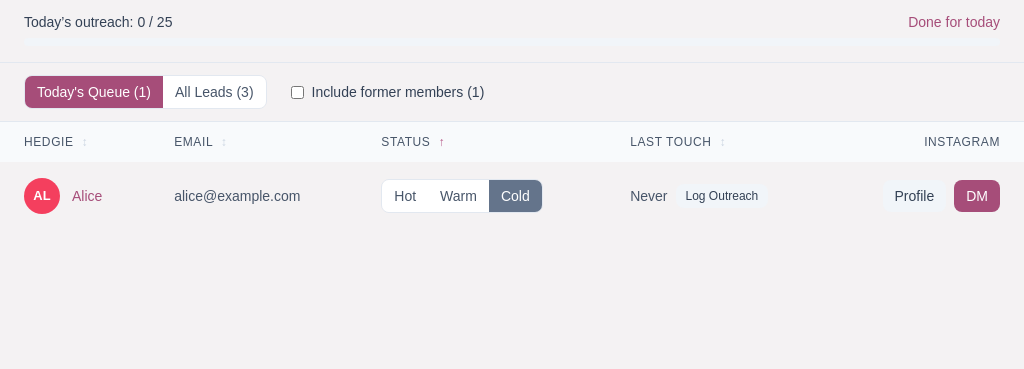
Test: OutreachTable — All Leads view › shows current leads by default and reveals former members via the filter
Click the button "All Leads (3)" at (214, 92), box [163, 76, 266, 108]
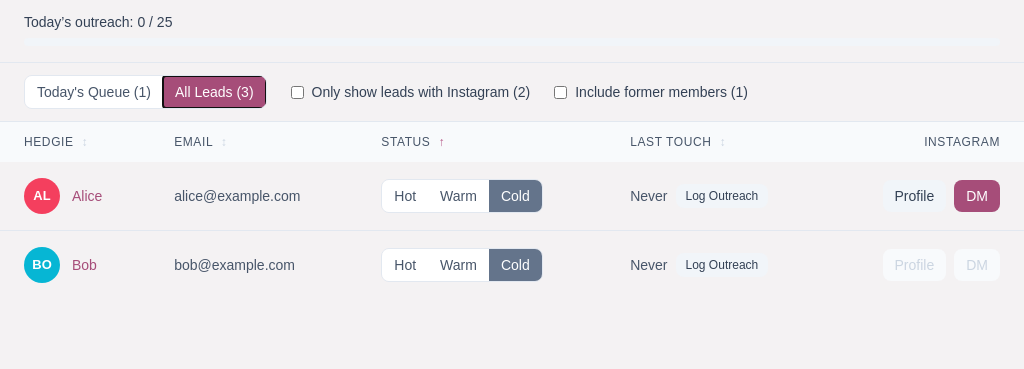
Check: the link "Alice" is shown, box [72, 186, 102, 206]
Check: the link "Bob" is shown, box [72, 255, 97, 275]
Click the checkbox labelled "Include former members (1)" at (561, 92), box [554, 86, 567, 98]
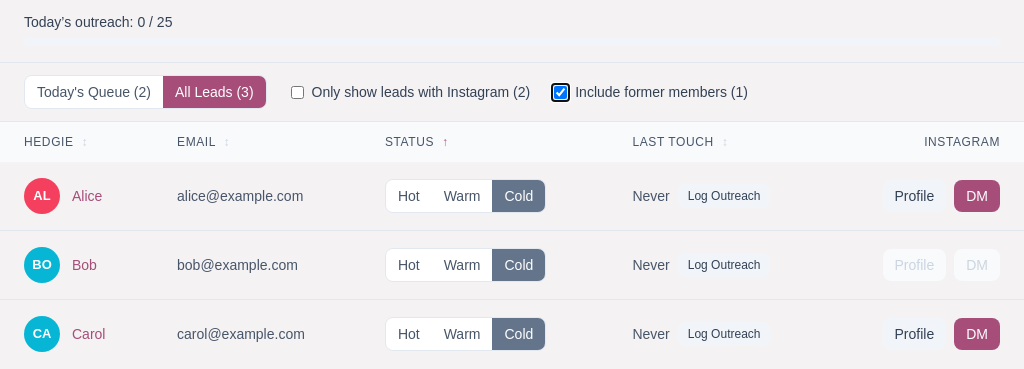
Check: the link "Carol" is shown, box [72, 324, 106, 344]
